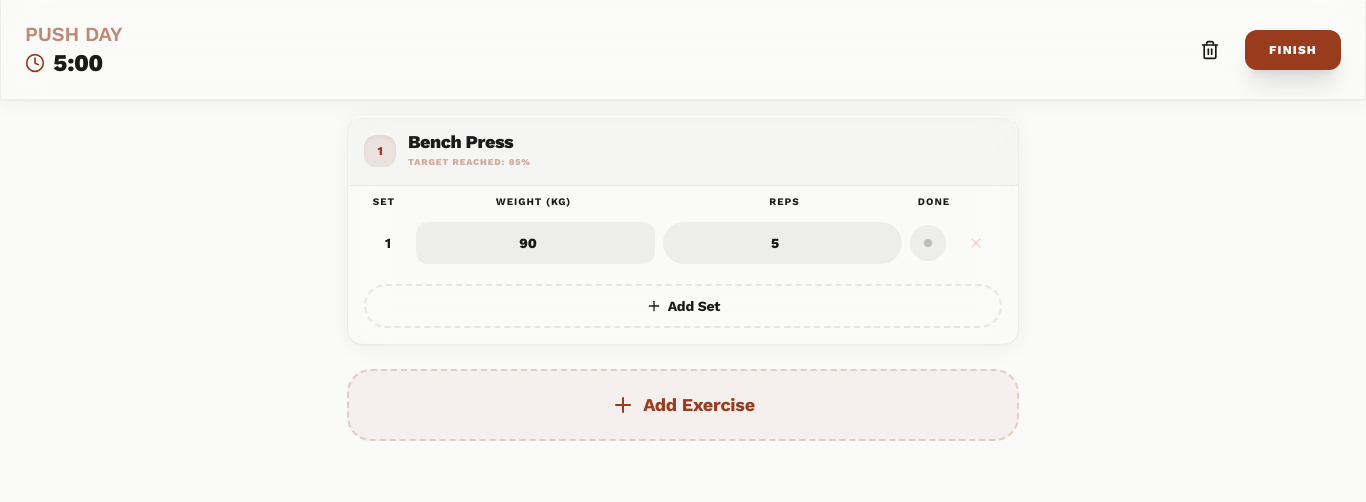
WorkoutSession Component › dismisses rest timer via the X button
This screenshot has width=1366, height=502.
Note: Toggle set completed → activates rest timer
Click the button with test id "toggle-set" at (928, 243), box [910,225,946,261]
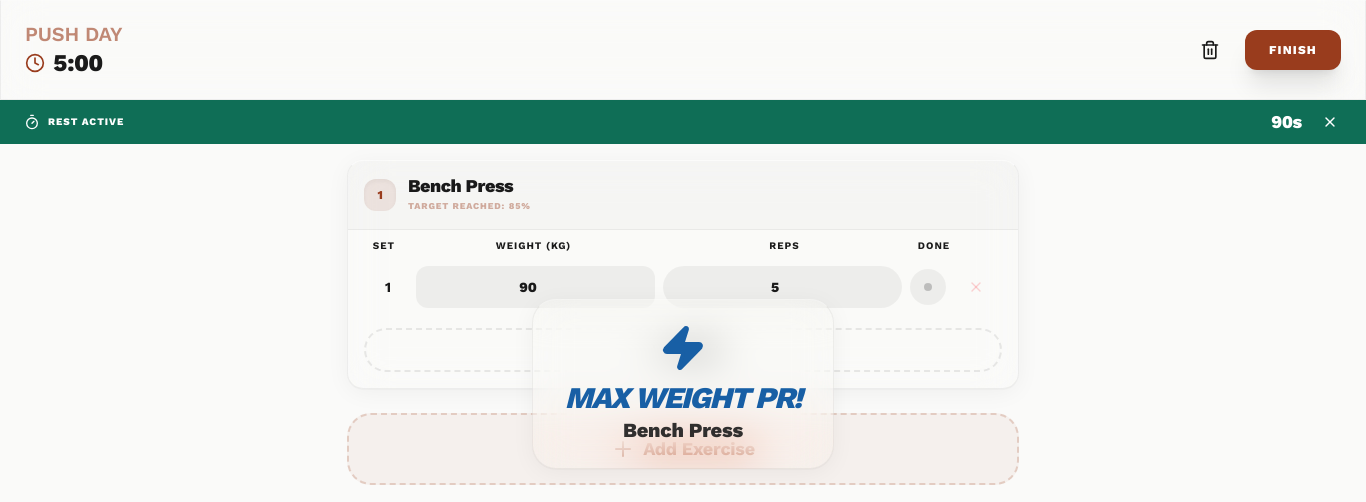
Now the text "Rest Active" is shown, box [48,114,124,130]
Click the button without text in the row of "90" at (1330, 122), box [1318,110,1342,134]
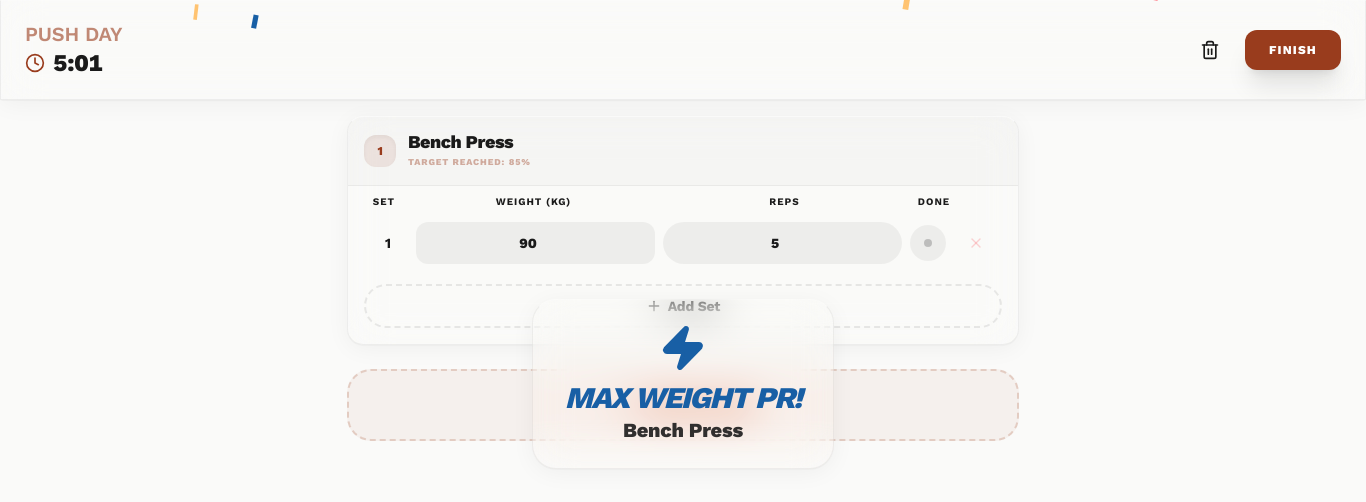
Now the text "Rest Active" is gone
